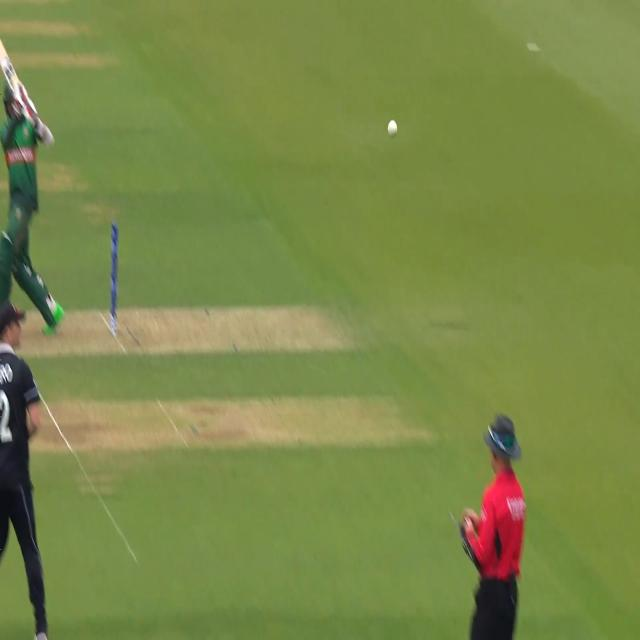ball: (377, 114, 408, 146)
